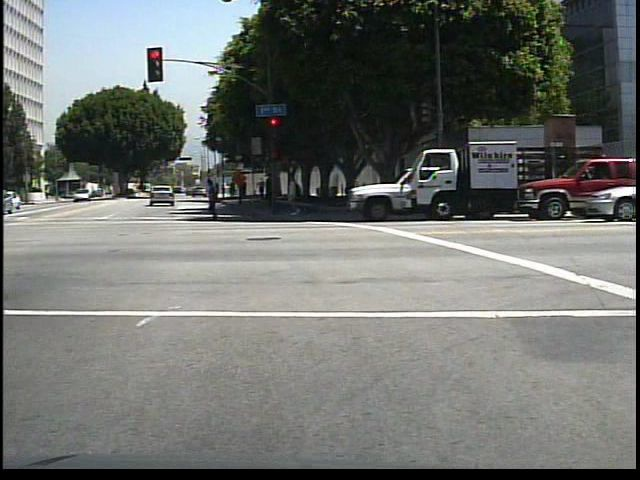person: (282, 168, 308, 217), (202, 178, 227, 220), (264, 171, 280, 214), (255, 174, 267, 199)
